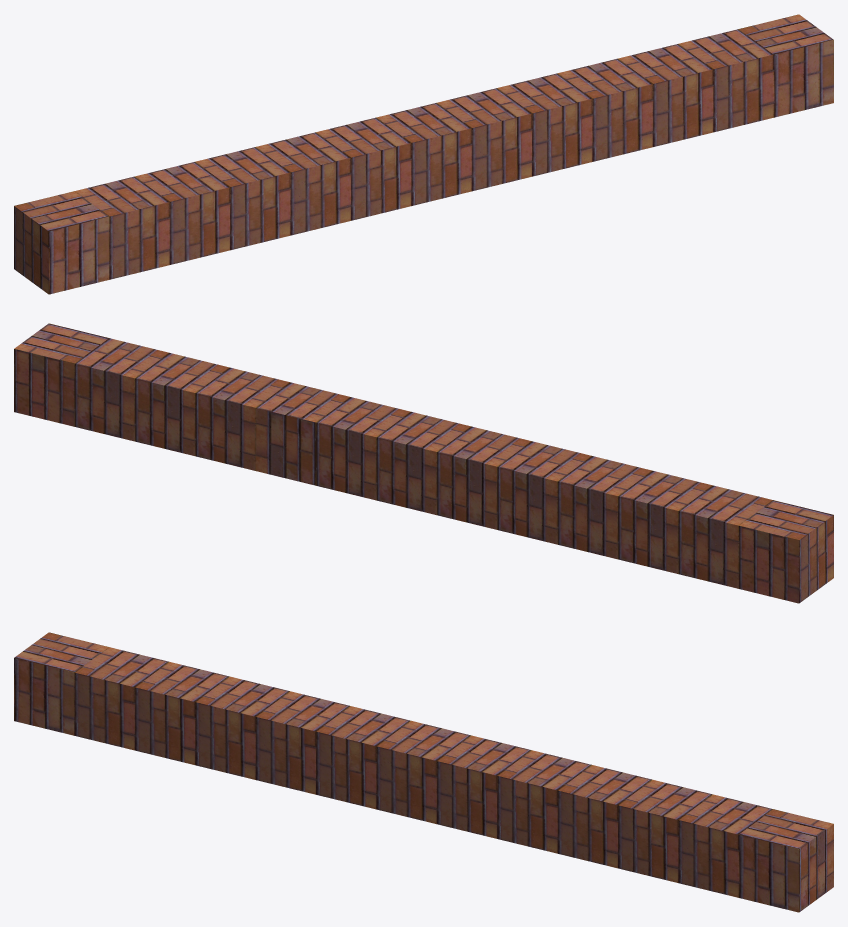
The model's file is floor.fbx.
3 views of the same model, one above another, from view 1: azimuth 30°, elevation 25°; view 2: azimuth 150°, elevation 25°; view 3: azimuth 330°, elevation 25° (orthographic).
Parts seen in each view (by area): view 1: Cube; view 2: Cube; view 3: Cube.
Boxes of the visible parts, x1,y1,x2,y2 form: Cube: (14, 14, 833, 294); Cube: (14, 323, 833, 603); Cube: (14, 632, 833, 912).
Size of the model in its own units: 260 by 20 by 20.
Materials: 1 (1 with a texture image).
